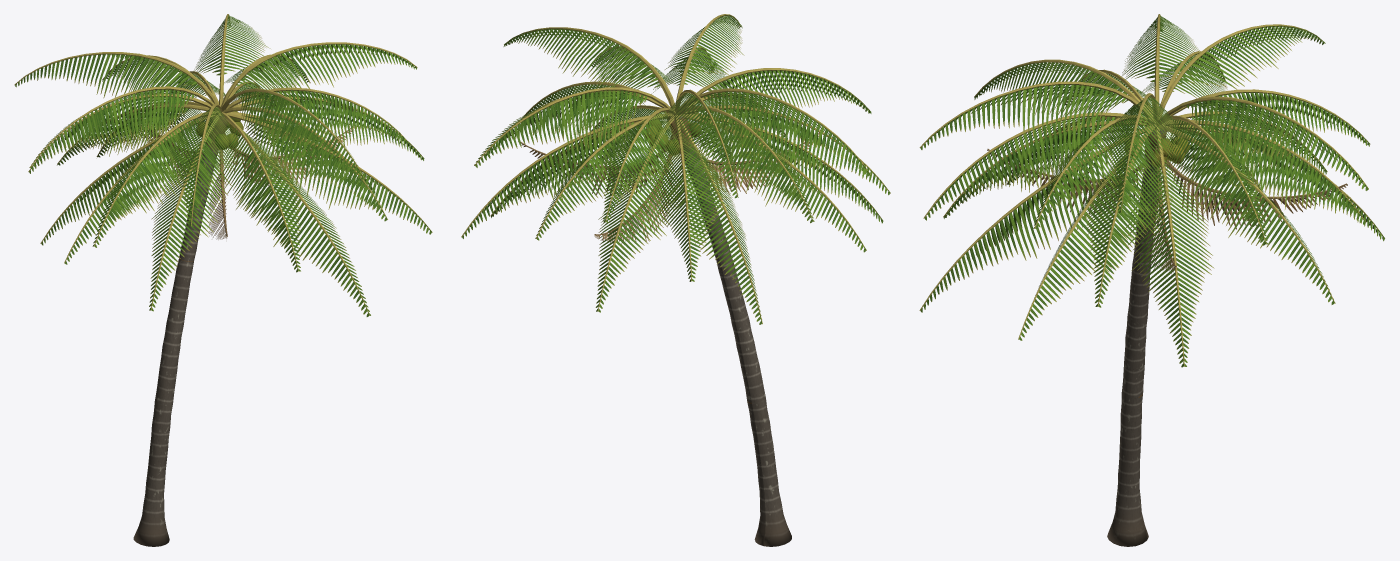
The model's file is CoconutPalm_A.gltf.
3 views of the same model, side by side, from view 1: azimuth 30°, elevation 25°; view 2: azimuth 150°, elevation 25°; view 3: azimuth 270°, elevation 25° (orthographic). The views are drawn at different scales.
Visible parts, largest first — view 1: CoconutPalm_A; view 2: CoconutPalm_A; view 3: CoconutPalm_A.
Part boxes in pixels (x1,y1,x2,y2): CoconutPalm_A: [14, 14, 432, 546]; CoconutPalm_A: [461, 14, 890, 546]; CoconutPalm_A: [919, 14, 1384, 546].
Bounding box in the file's own units: 8.63 × 10.06 × 8.17.
Materials: 3 (3 with a texture image).
